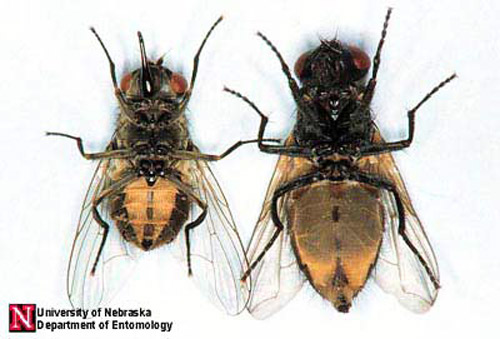fly: (214, 2, 448, 319), (42, 12, 256, 322)
